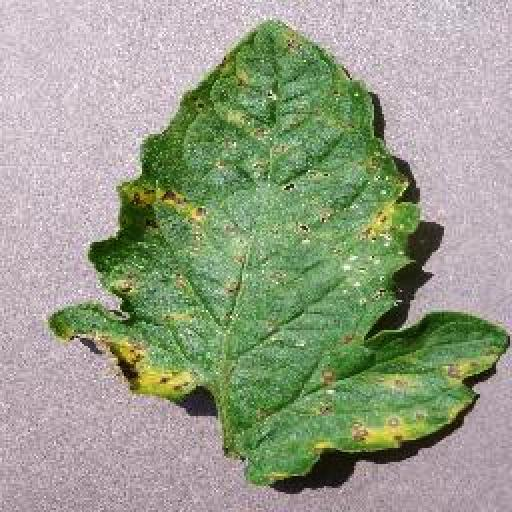disease_tomato: (47, 18, 511, 488)
